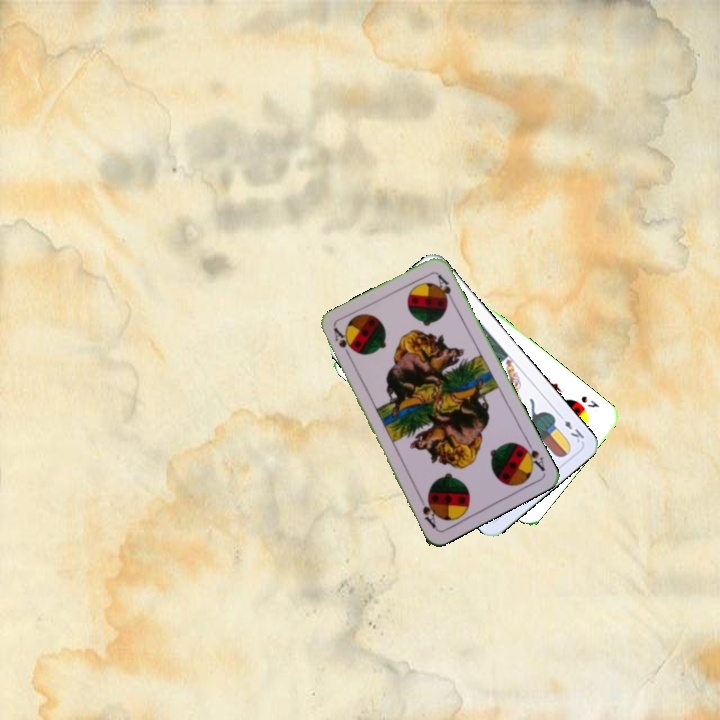EK: (554, 409, 587, 446)
SA: (517, 436, 547, 474), (330, 324, 354, 362)
SK: (577, 392, 602, 411)
